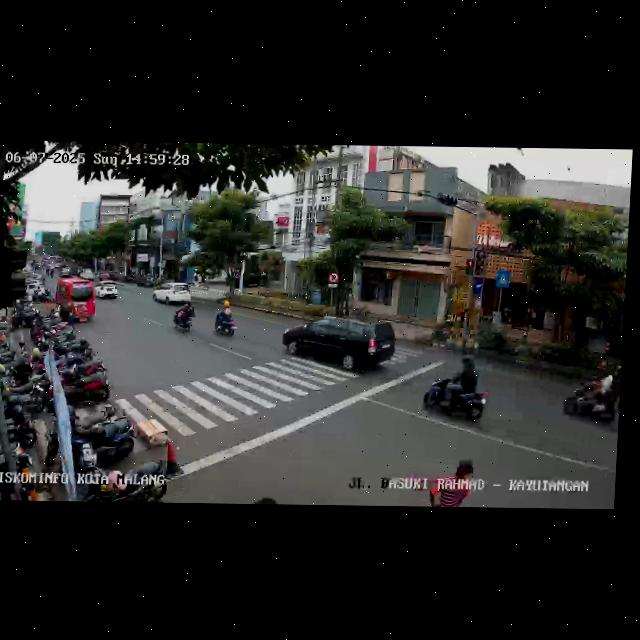car: (282, 314, 398, 378), (54, 278, 97, 325), (152, 281, 194, 307), (95, 278, 123, 302)
motorcycle: (421, 355, 493, 427), (562, 361, 622, 431), (213, 301, 239, 338), (171, 299, 196, 333)
